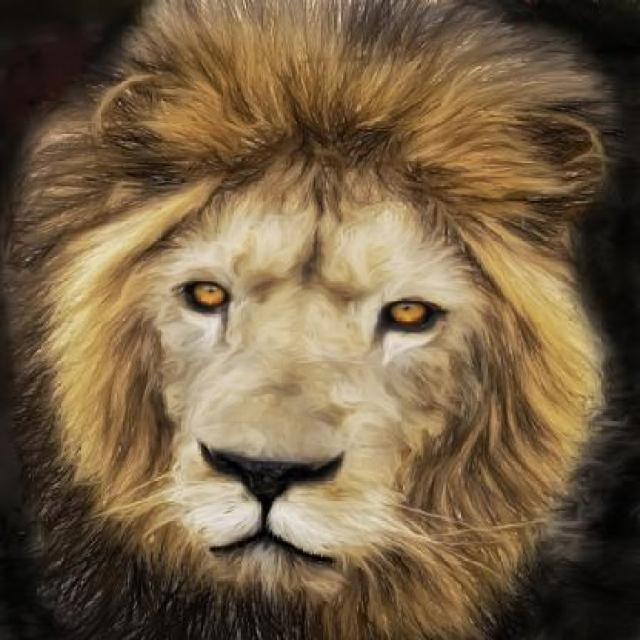Lion: (2, 16, 626, 638)
